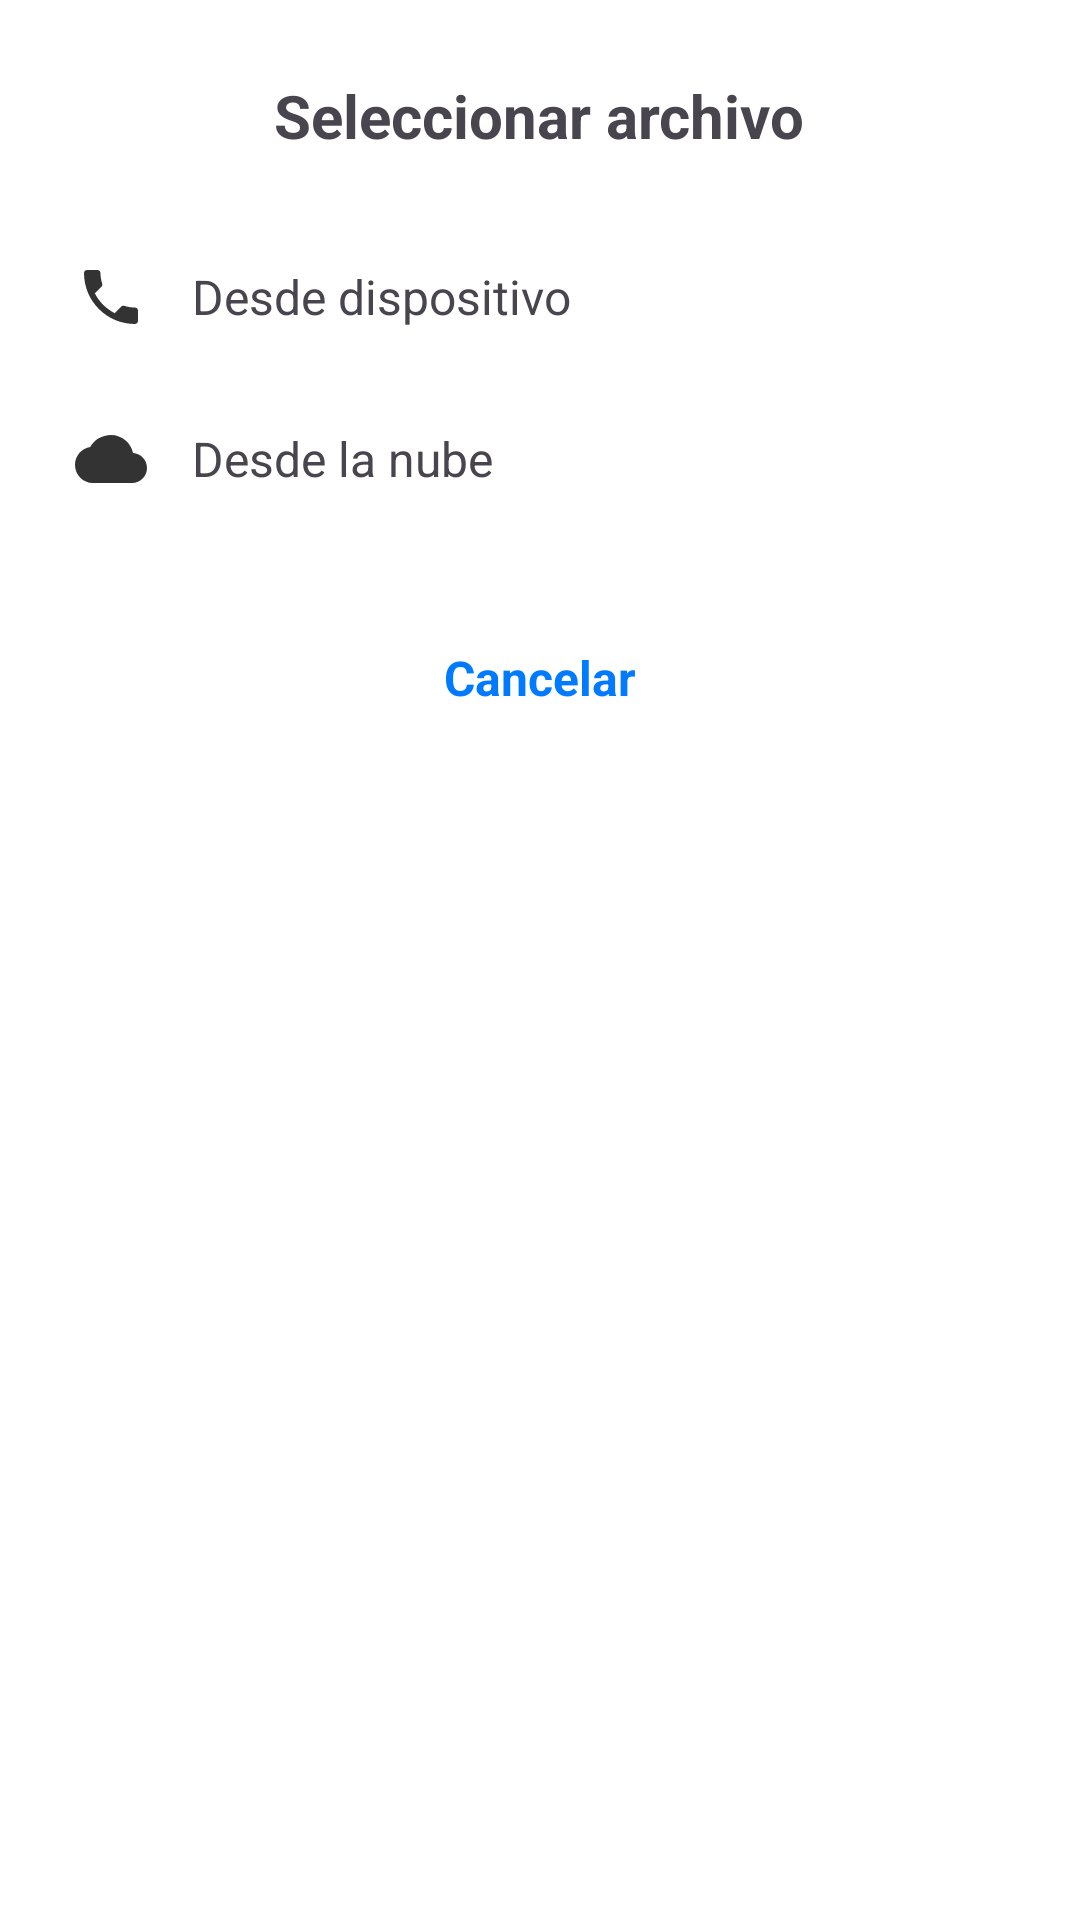

Screen size 1080x1920. Icon name, then its center in pixels as (x=x, y=y):
cloud: (x=111, y=459)
phone: (x=111, y=297)
